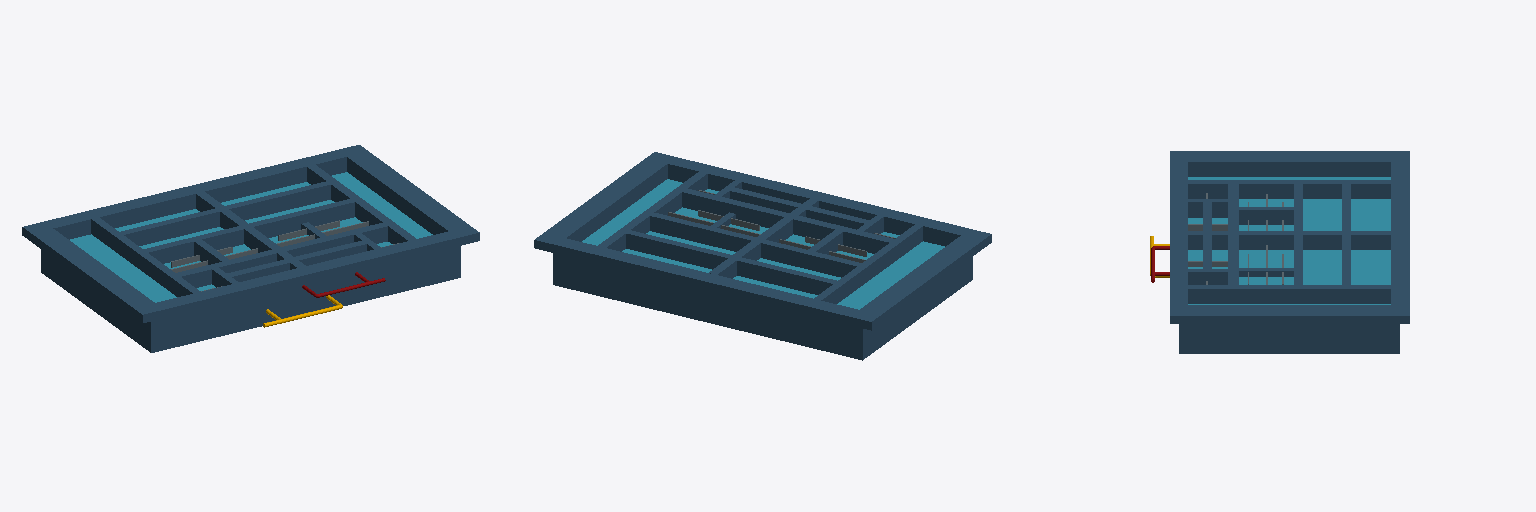
Rendered from biochemical_pool_phase_aao_2.obj.
The picture shows the model from 3 angles: view 1: azimuth 30°, elevation 25°; view 2: azimuth 150°, elevation 25°; view 3: azimuth 270°, elevation 25°; orthographic projection.
Parts seen in each view (by area): view 1: ___, ___.2, ___.4, __.7; view 2: ___, ___.2, ___.4; view 3: ___, ___.2.
Boxes of the visible parts, x1=… form: ___: x1=22, y1=145, x2=479, y2=352; ___.2: x1=70, y1=172, x2=432, y2=302; ___.4: x1=171, y1=221, x2=368, y2=272; __.7: x1=263, y1=278, x2=385, y2=327; ___: x1=534, y1=152, x2=991, y2=360; ___.2: x1=582, y1=179, x2=944, y2=309; ___.4: x1=668, y1=212, x2=865, y2=262; ___: x1=1170, y1=151, x2=1409, y2=353; ___.2: x1=1188, y1=177, x2=1390, y2=304.
Size of the model in its own units: 8154 by 1051 by 5451.